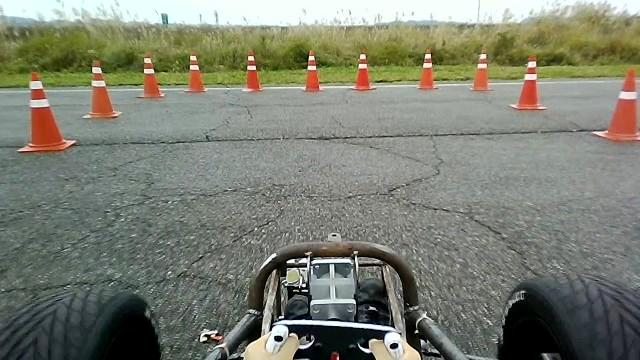red cone: (16, 70, 76, 152), (589, 67, 637, 141), (81, 59, 121, 119), (509, 55, 546, 110), (136, 56, 164, 98), (349, 49, 376, 90), (469, 48, 493, 91), (183, 52, 207, 92), (301, 49, 323, 92), (417, 47, 438, 89), (241, 49, 262, 91)
